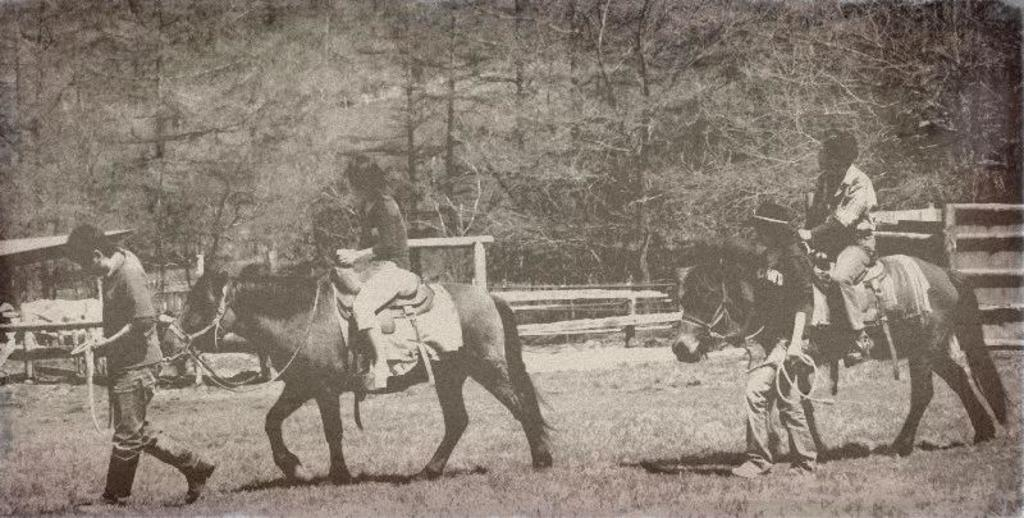Person: (334, 155, 413, 390)
